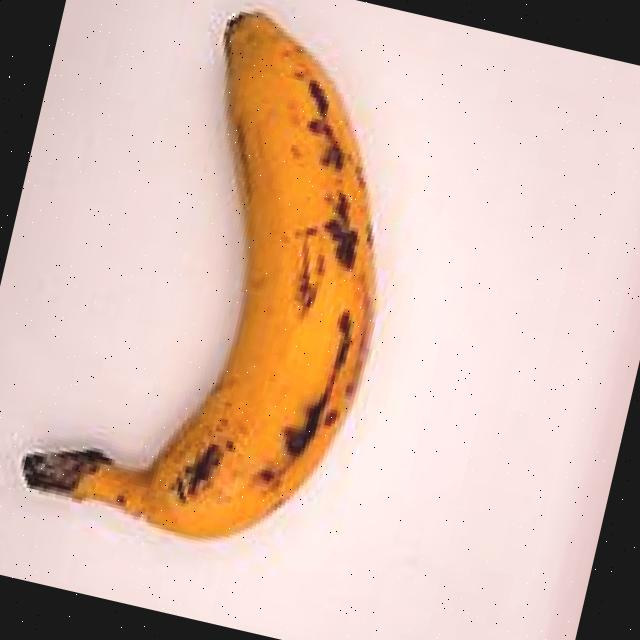Overripe: (0, 0, 483, 606)
